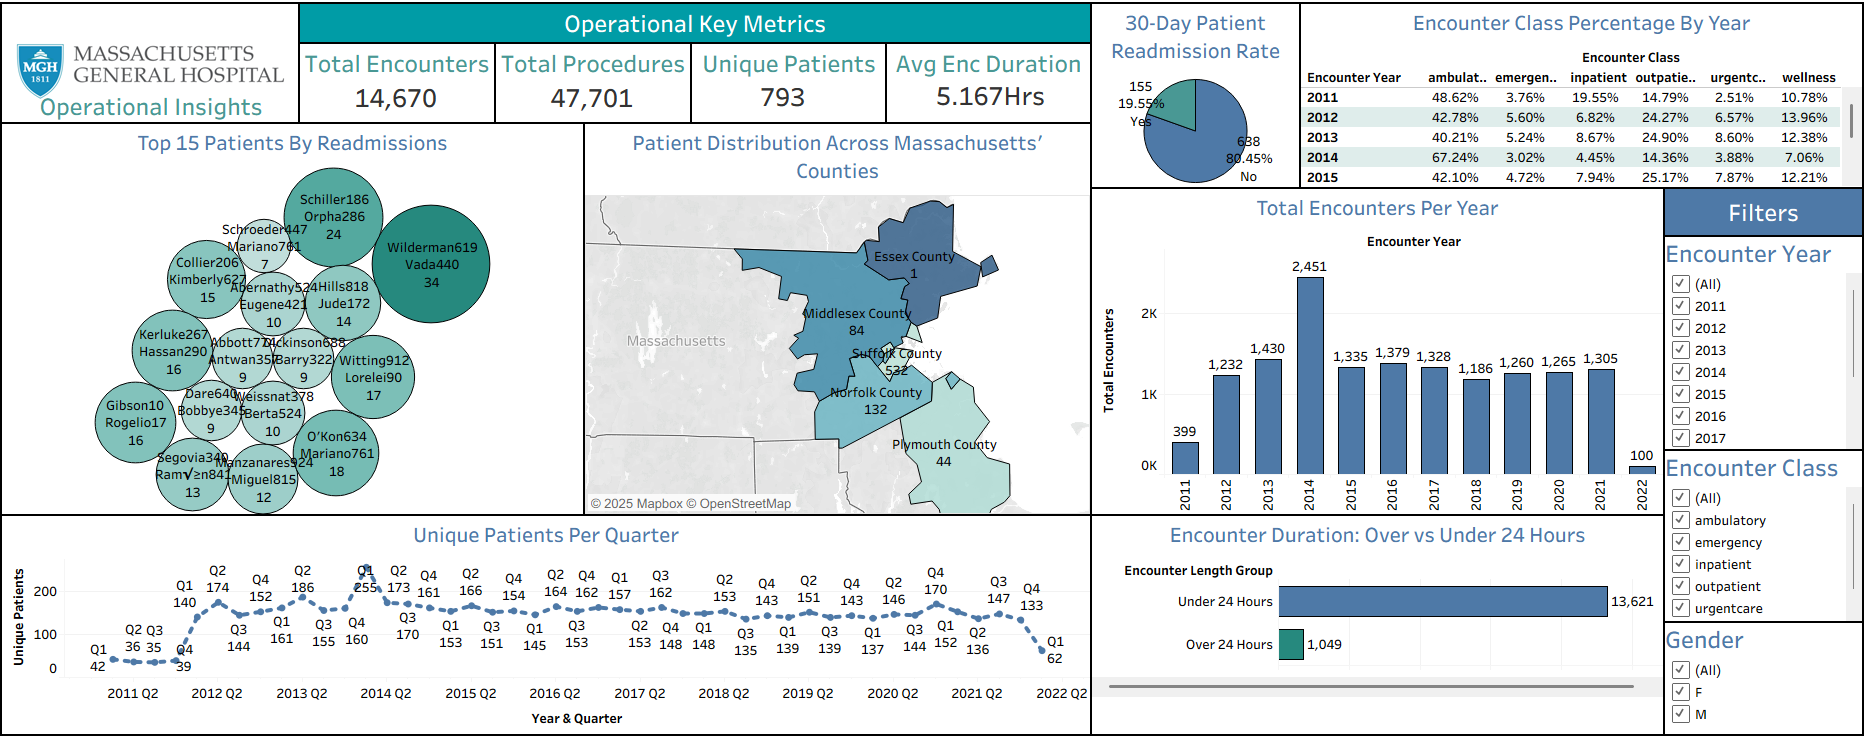

The page's visual inventory and layout, read from the dashboard file:
{"tool":"tableau","page":{"name":"Operational Insights","canvas":[1880,750],"ordinal":1},"visuals":[{"type":"image","param":"Image/massachusetts-general-hospital-logo-png_seeklogo-212994.png","box":[8,8,300,122]},{"type":"text","box":[306,8,198,122]},{"type":"text","box":[306,8,794,42]},{"type":"text","box":[502,8,198,122]},{"type":"text","box":[698,8,198,122]},{"type":"text","box":[893,8,207,122]},{"type":"worksheet","title":"30-Day Patient Readmission Rate","mark":"Pie","box":[1098,8,211,187]},{"type":"worksheet","title":"Encounter Class Percentage By Year","mark":"Automatic","rows":["Calculation_0001040236839181"],"cols":["encounter_class"],"box":[1307,8,565,187]},{"type":"worksheet","title":"KPI (Total Unique Patients)","mark":"Automatic","box":[700,84,194,43]},{"type":"worksheet","title":"KPI (Total Encounters)","mark":"Automatic","box":[308,85,194,43]},{"type":"worksheet","title":"KPI (Total Procedures)","mark":"Automatic","box":[504,85,194,43]},{"type":"worksheet","title":"KPI (Avg Encounter Duration)","mark":"Automatic","box":[896,85,202,43]},{"type":"text","box":[9.1,94,299.7,36]},{"type":"worksheet","title":"Top 15 Patients By Readmissions","mark":"Circle","box":[8,128,585,394]},{"type":"worksheet","title":"Patient Distribution Across Massachusetts' Counties","mark":"Multipolygon","box":[591,128,509,394]},{"type":"worksheet","title":"Total Encounters Per Year","mark":"Bar","rows":["Calculation_0001040232059148"],"cols":["Calculation_0001040236839181"],"box":[1098,193,575,329]},{"type":"text","box":[1671,193,201,50]},{"type":"filter","title":"Total Encounters Per Year","param":"[federated.16f0fpg1ebmwvw19k7khh0ex8na3].[none:Calculation_0001040236839181:ok]","box":[1671,241,201,216]},{"type":"filter","title":"Encounter Class Percentage By Year","param":"[federated.16f0fpg1ebmwvw19k7khh0ex8na3].[none:encounter_class:nk]","box":[1671,455,201,174]},{"type":"worksheet","title":"Unique Patients Per Quarter","mark":"Line","rows":["Calculation_0001042563469327"],"cols":["encounter_start_dt"],"box":[8,520,1092,222]},{"type":"worksheet","title":"Encounter Duration: Over vs Under 24 Hours","mark":"Automatic","rows":["Calculation_0001040639496235"],"cols":["Calculation_0001040232059148"],"box":[1098,520,575,222]},{"type":"filter","title":"Patient Distribution Across Massachusetts' Counties","param":"[federated.16f0fpg1ebmwvw19k7khh0ex8na3].[none:gender:nk]","box":[1671,627,201,115]}]}

Visuals, with their boxes in screenshot pixels (x1, y1, x2, y2), scaled from the page's 1880x750 canvas onto the 1867x739 screenshot:
image: select_region(8, 8, 306, 128)
text: select_region(304, 8, 501, 128)
text: select_region(304, 8, 1092, 49)
text: select_region(499, 8, 695, 128)
text: select_region(693, 8, 890, 128)
text: select_region(887, 8, 1092, 128)
"30-Day Patient Readmission Rate" worksheet (Pie marks): select_region(1090, 8, 1300, 192)
"Encounter Class Percentage By Year" worksheet: select_region(1298, 8, 1859, 192)
"KPI (Total Unique Patients)" worksheet: select_region(695, 83, 888, 125)
"KPI (Total Encounters)" worksheet: select_region(306, 84, 499, 126)
"KPI (Total Procedures)" worksheet: select_region(501, 84, 693, 126)
"KPI (Avg Encounter Duration)" worksheet: select_region(890, 84, 1090, 126)
text: select_region(9, 93, 307, 128)
"Top 15 Patients By Readmissions" worksheet (Circle marks): select_region(8, 126, 589, 514)
"Patient Distribution Across Massachusetts' Counties" worksheet (Multipolygon marks): select_region(587, 126, 1092, 514)
"Total Encounters Per Year" worksheet (Bar marks): select_region(1090, 190, 1661, 514)
text: select_region(1659, 190, 1859, 239)
"Total Encounters Per Year" filter: select_region(1659, 237, 1859, 450)
"Encounter Class Percentage By Year" filter: select_region(1659, 448, 1859, 620)
"Unique Patients Per Quarter" worksheet (Line marks): select_region(8, 512, 1092, 731)
"Encounter Duration: Over vs Under 24 Hours" worksheet: select_region(1090, 512, 1661, 731)
"Patient Distribution Across Massachusetts' Counties" filter: select_region(1659, 618, 1859, 731)
